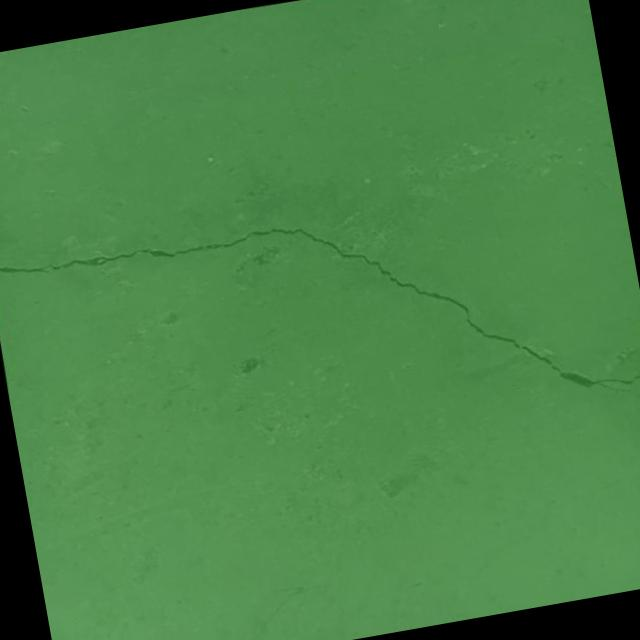crack: (0, 150, 640, 509)
